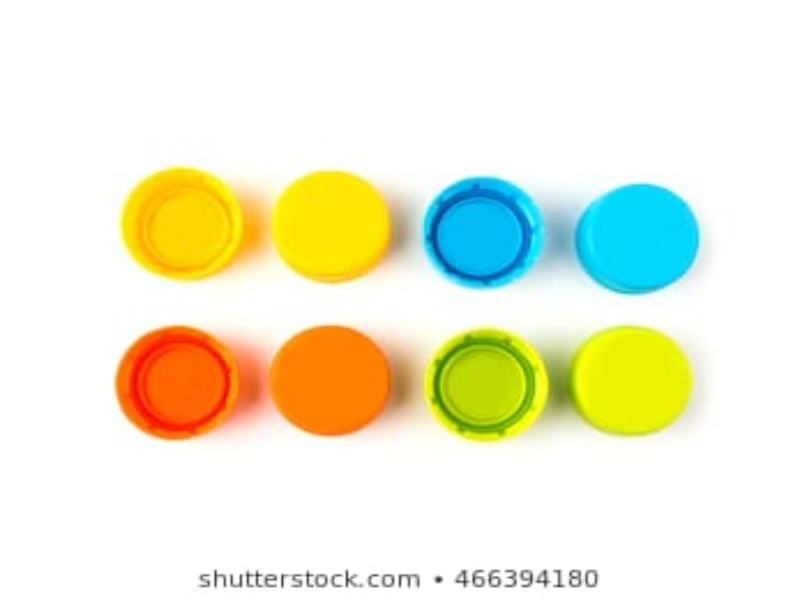bottle-cap: (422, 328, 547, 440), (269, 325, 394, 437), (421, 176, 546, 288), (274, 172, 399, 284), (115, 324, 240, 436), (568, 323, 693, 435), (120, 168, 245, 280), (576, 182, 701, 294)
